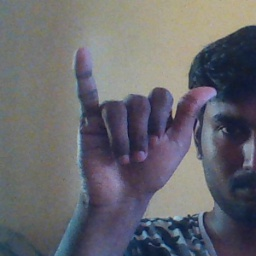J: (70, 44, 217, 203)
